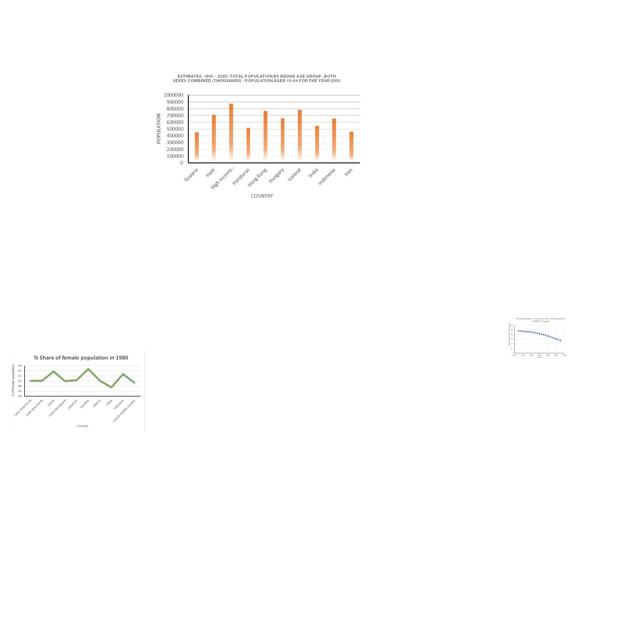Graph: (149, 71, 365, 200), (8, 351, 145, 432), (507, 317, 568, 359)
